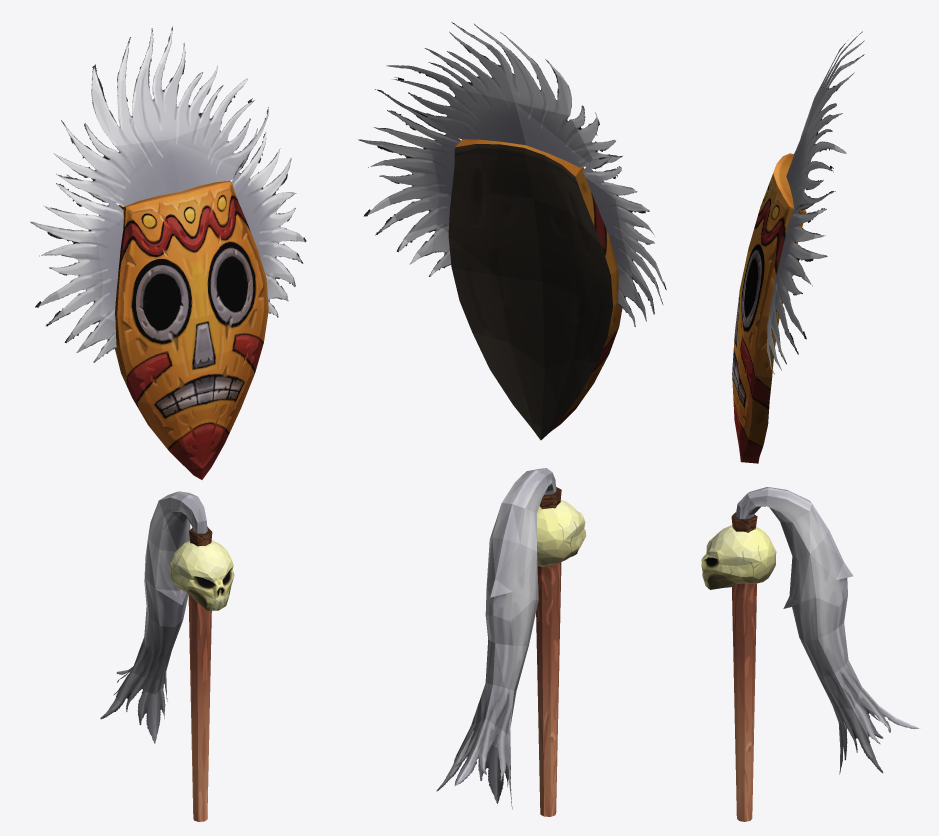
File: villain2_clothes.fbx
3 views of the same model, side by side, from view 1: azimuth 30°, elevation 25°; view 2: azimuth 150°, elevation 25°; view 3: azimuth 270°, elevation 25° (orthographic). The views are drawn at different scales.
Parts seen in each view (by area): view 1: villain2costume, Empty_Mesh; view 2: villain2costume, Empty_Mesh; view 3: Empty_Mesh, villain2costume.
Boxes of the visible parts, x1,y1,x2,y2 form: villain2costume: [30, 26, 306, 479]; Empty_Mesh: [100, 491, 234, 821]; villain2costume: [358, 22, 666, 440]; Empty_Mesh: [436, 468, 586, 816]; Empty_Mesh: [701, 487, 919, 821]; villain2costume: [732, 31, 864, 463].
Size of the model in its own units: 131 by 321 by 81.82.
